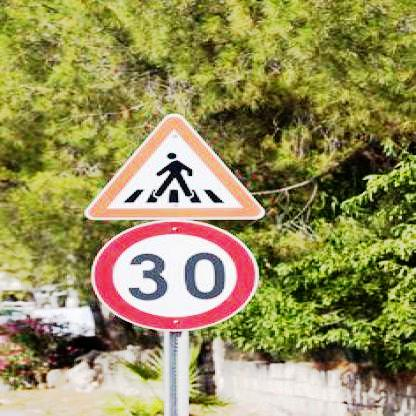Speed Limit -30-: (92, 219, 260, 328)
